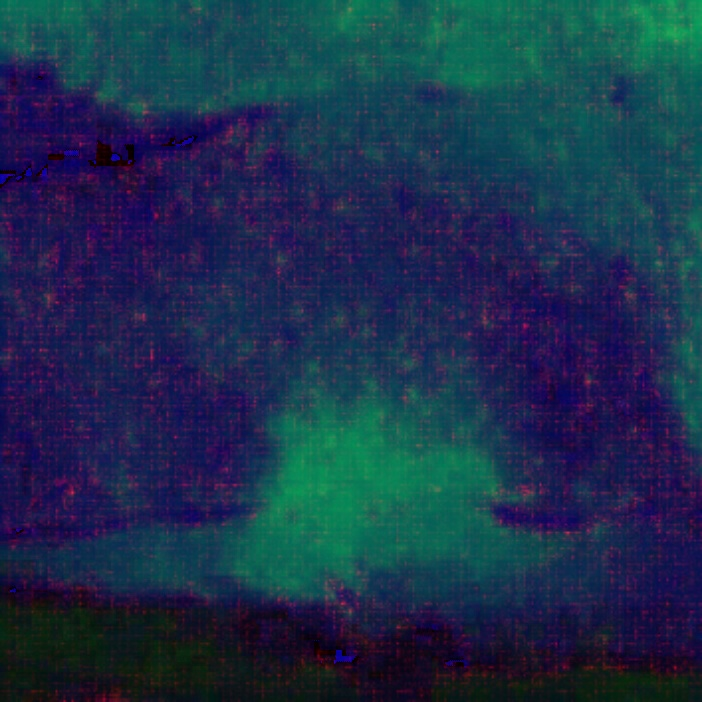rip_current: (180, 270, 569, 606)
